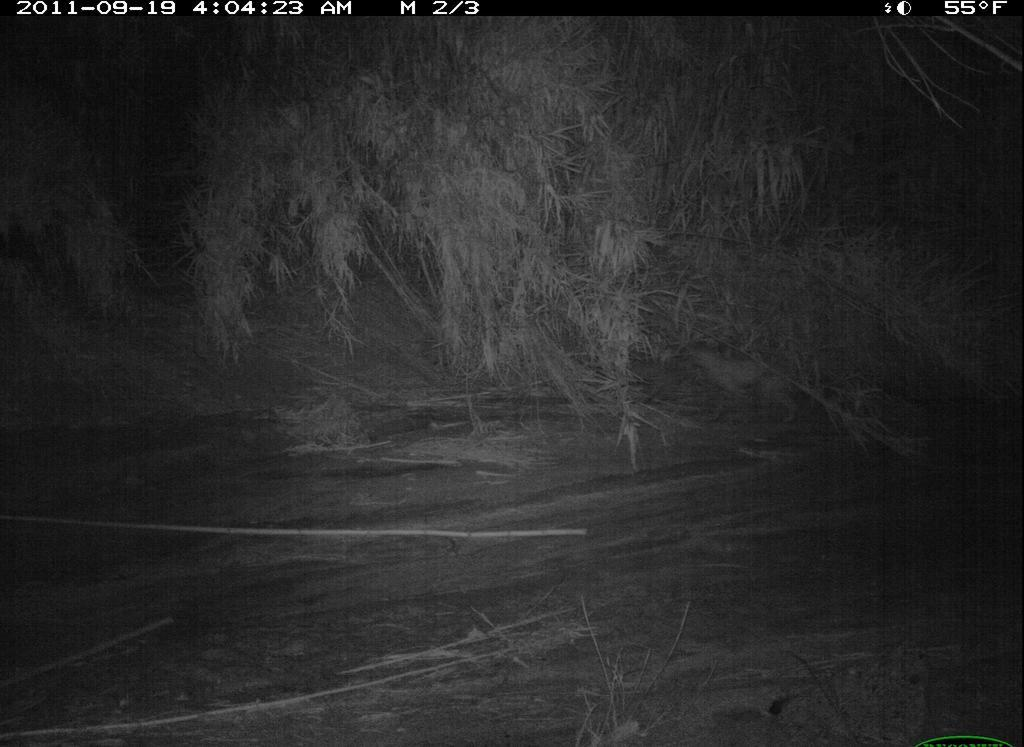bobcat: (687, 340, 803, 436)
